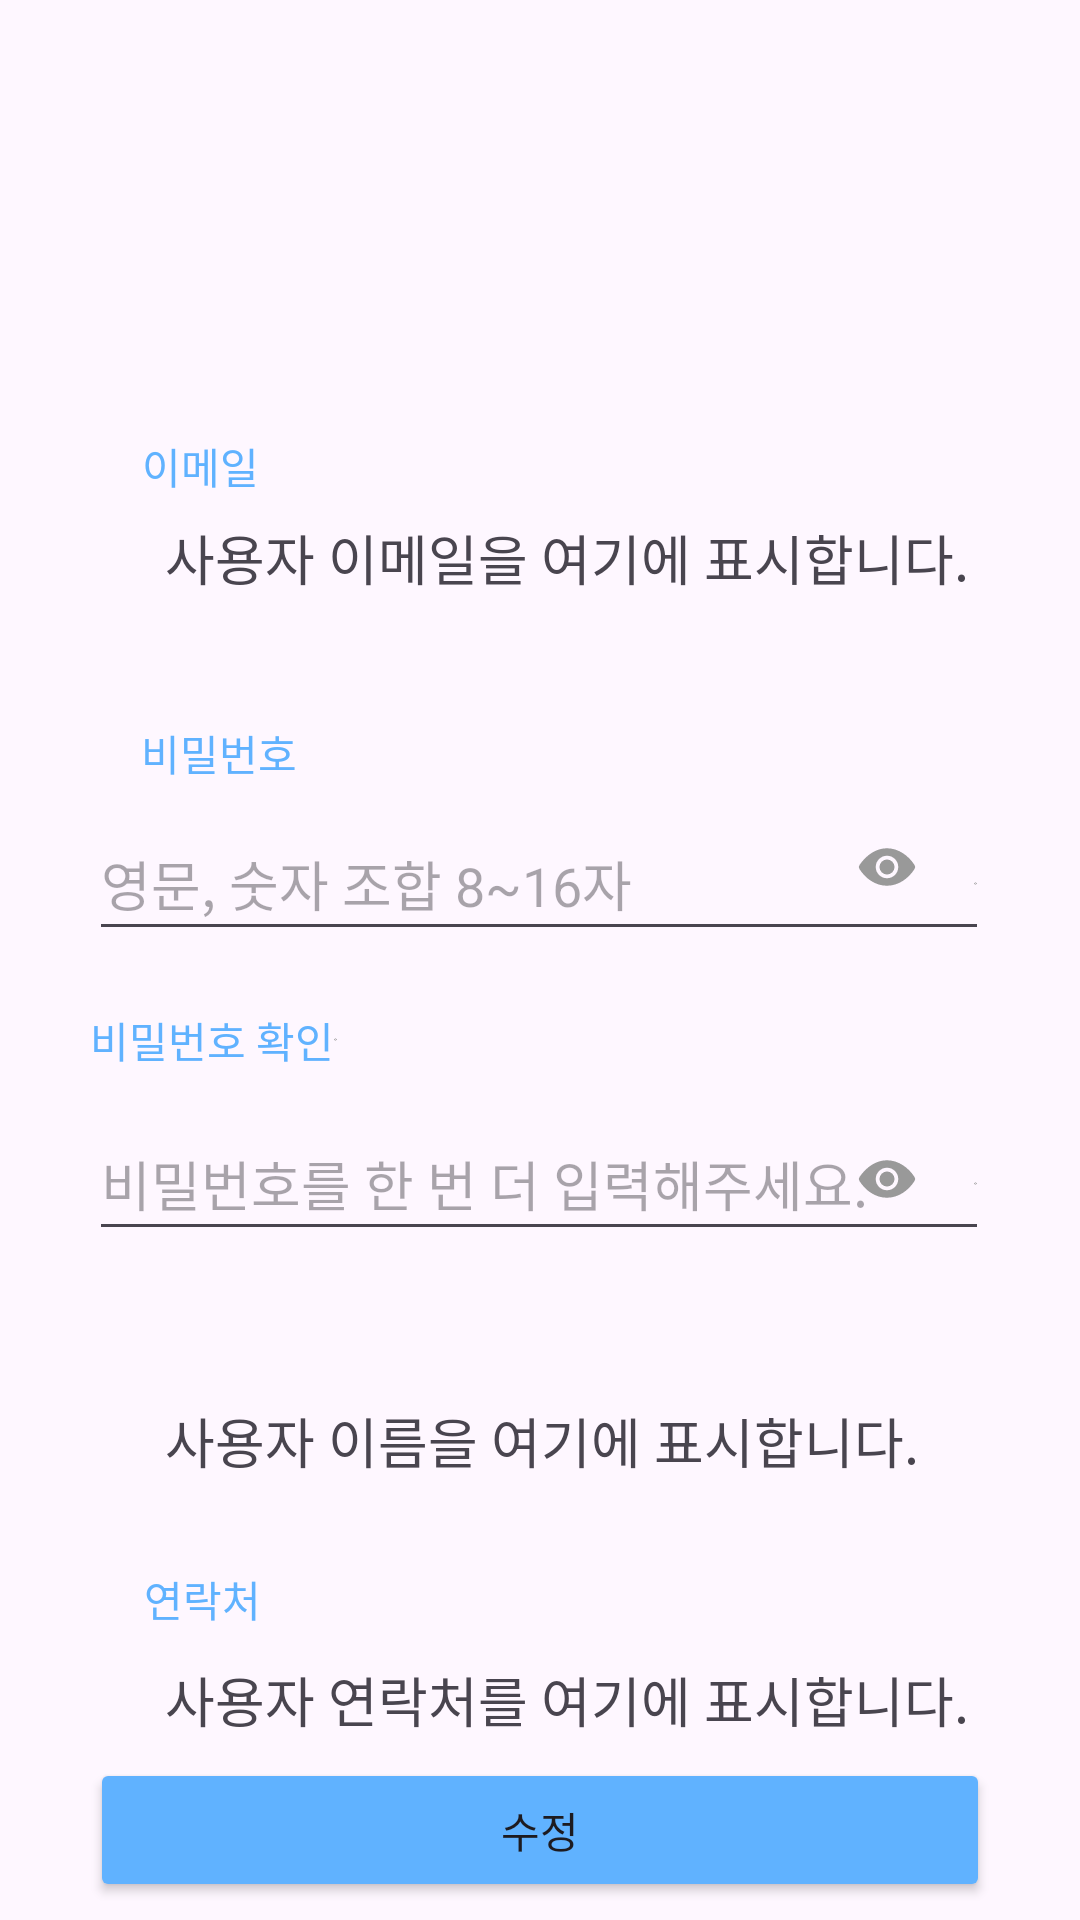

Icon bounding boxes for this 1080x1920 phone screenshot, format (x1, y1, x2, y2):
eye: (859, 848, 915, 886), (857, 1160, 915, 1208)
